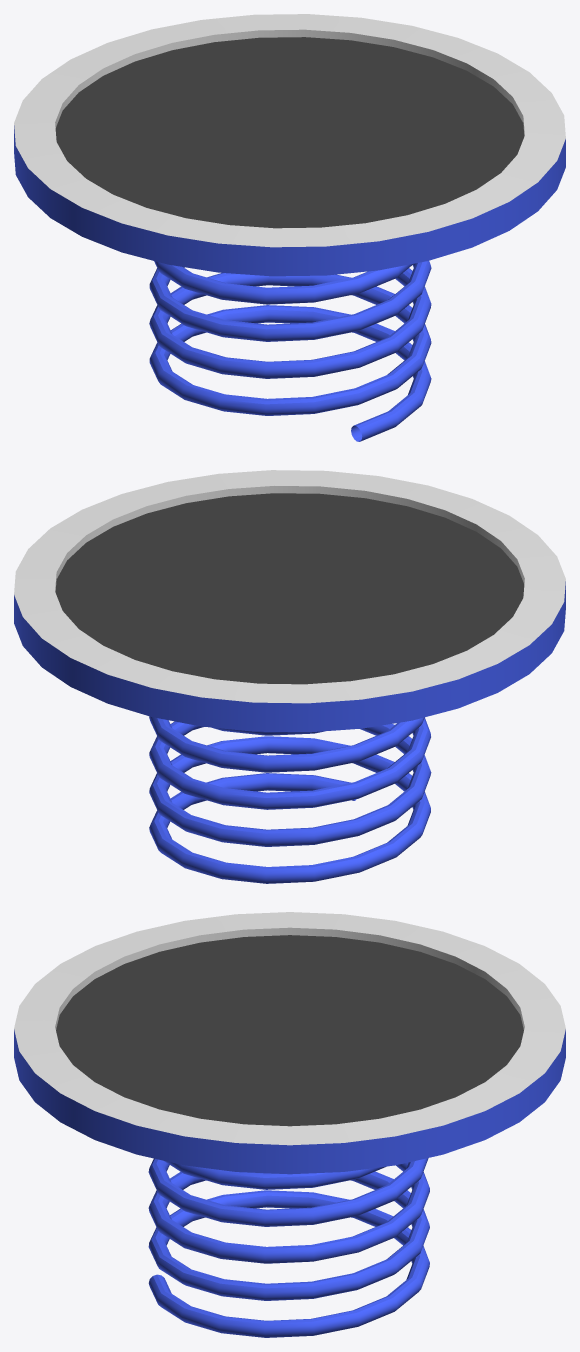
File: Spring Pad Circle.fbx
3 renders of one model, top to bottom at view 1: azimuth 30°, elevation 25°; view 2: azimuth 150°, elevation 25°; view 3: azimuth 270°, elevation 25°, orthographic.
Visible parts, largest first — view 1: Spring Pad; view 2: Spring Pad; view 3: Spring Pad.
Boxes of the visible parts, x1,y1,x2,y2 form: Spring Pad: (14,14,565,441); Spring Pad: (14,470,565,883); Spring Pad: (14,912,565,1337).
Size of the model in its own units: 2.2 by 1.16 by 2.2.
